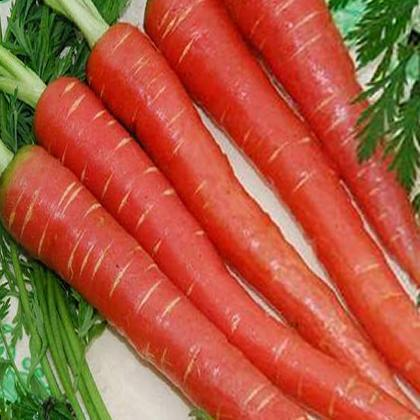carrot: (3, 23, 420, 411)
